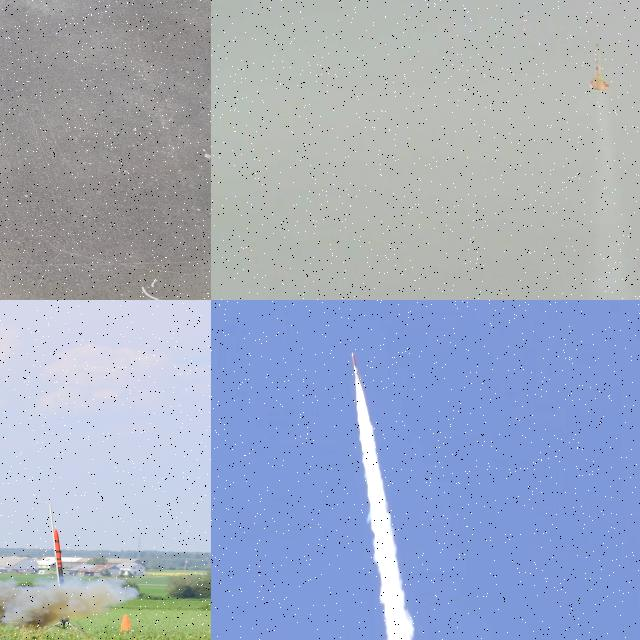Rocket: (587, 42, 611, 93), (53, 528, 65, 585), (351, 352, 360, 376)
